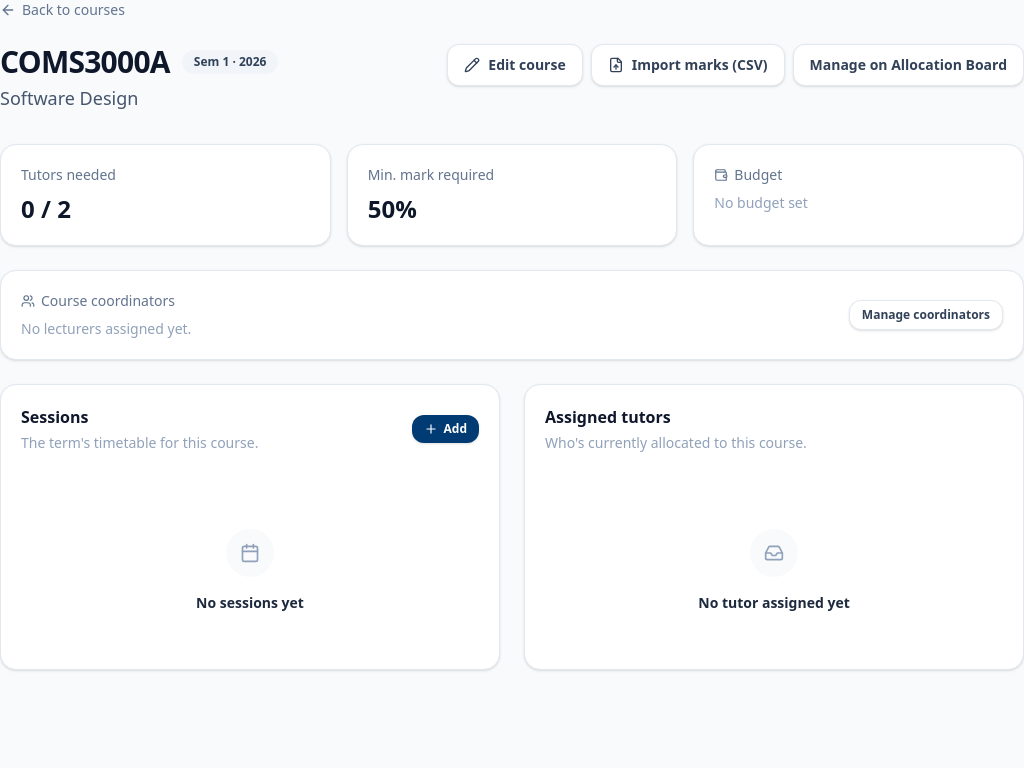
Test case: AddSessionModal › shows an actionable fallback and keeps input when the failure has no message
The width and height of the screenshot is (1024, 768).
Click the button "Add" at (445, 429), box [412,415,479,443]
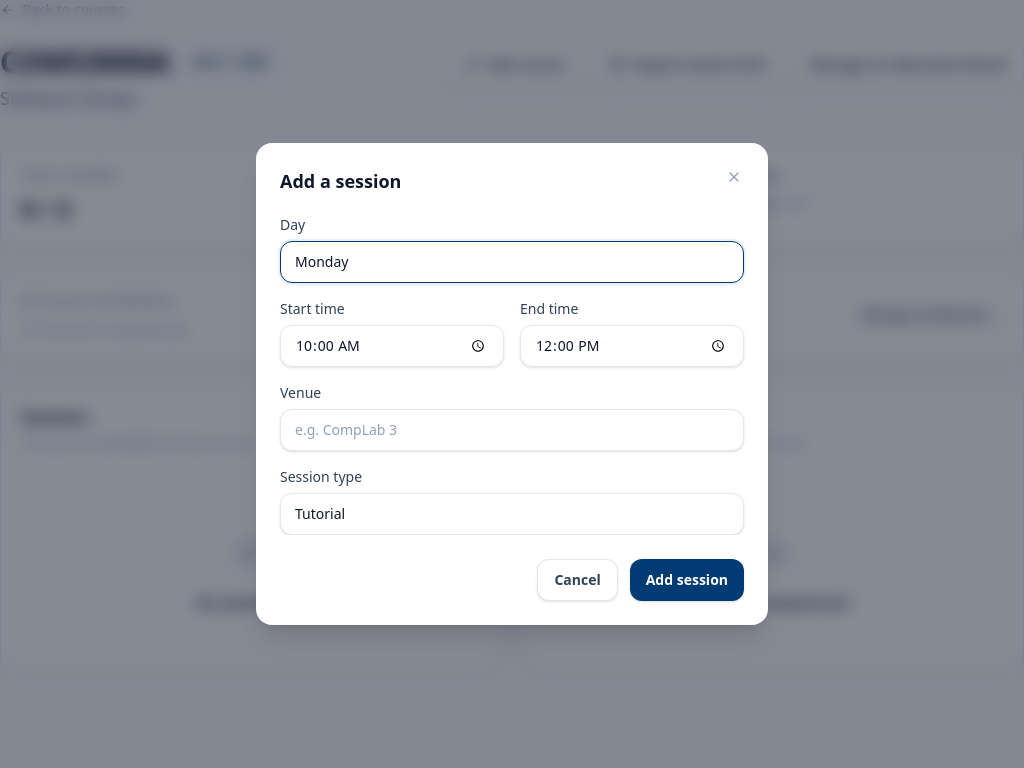
Type "CompLab 3" into the field labelled "Venue" at (512, 430), box [280,409,744,451]
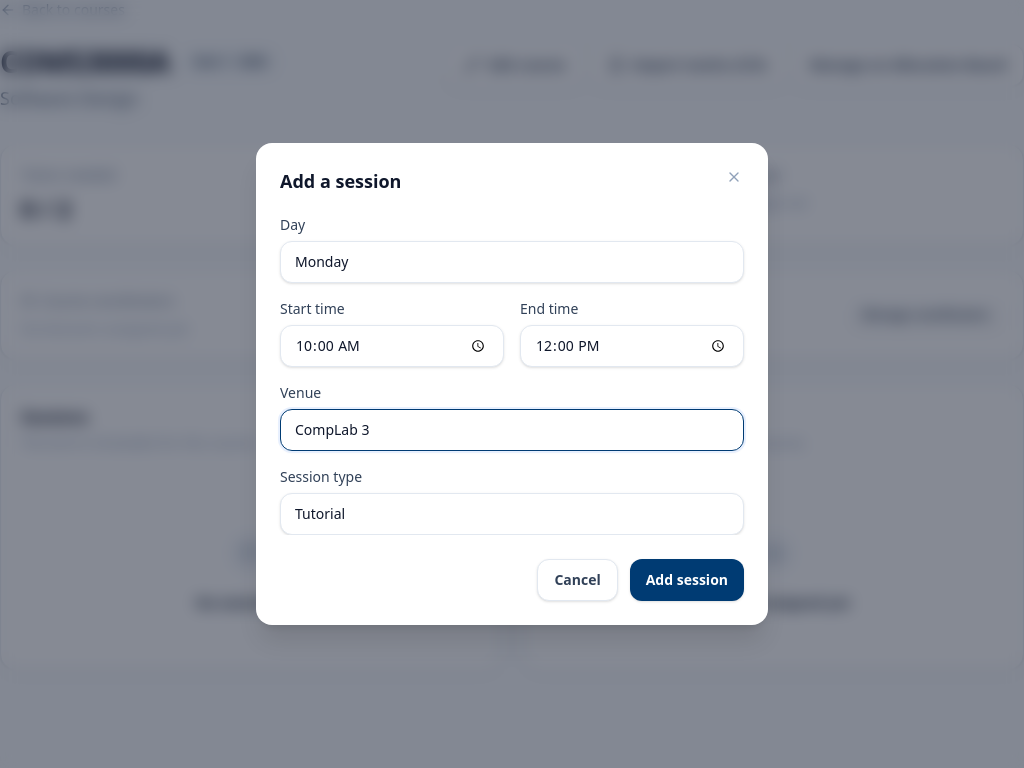
Click the button "Add session" at (687, 580), box [630,559,744,601]
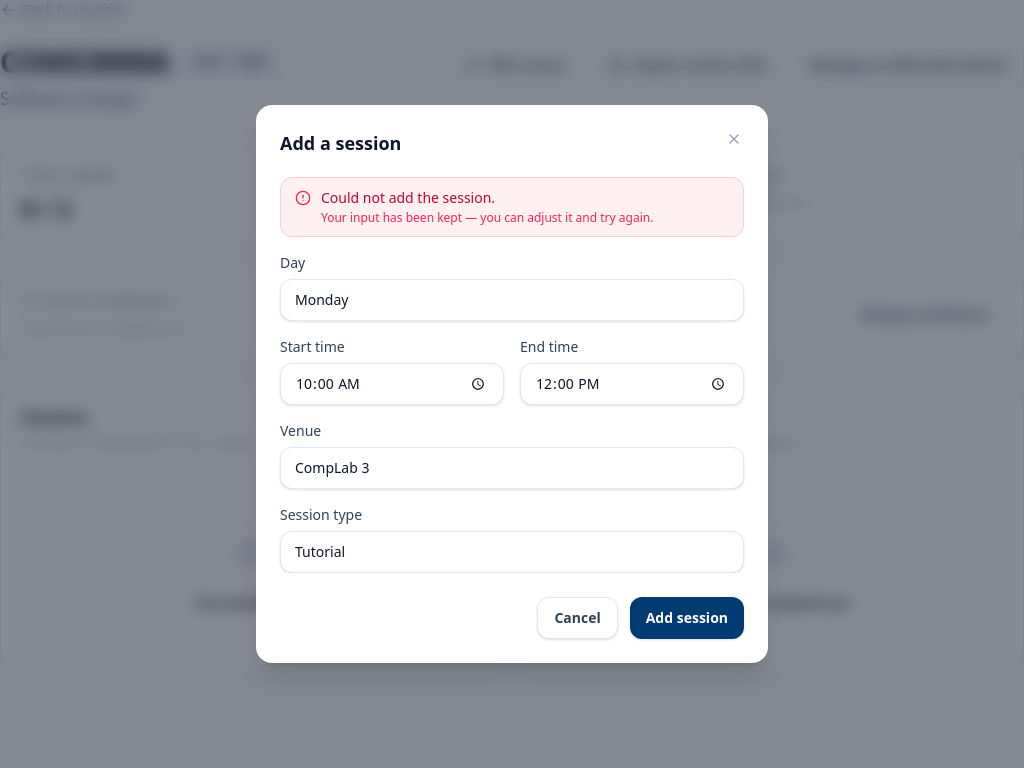
Expected: the dialog "Add a session" is shown, [256,105,768,663]
Expected: the message shows "Could not add the session.", [321,188,495,207]
Expected: the message shows "try again", [321,209,653,226]
